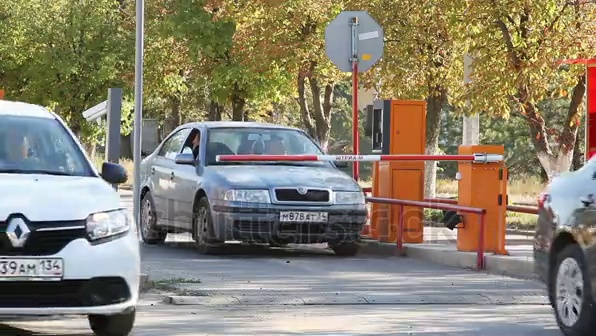licenseplate: (4, 254, 76, 284), (278, 209, 333, 229)
